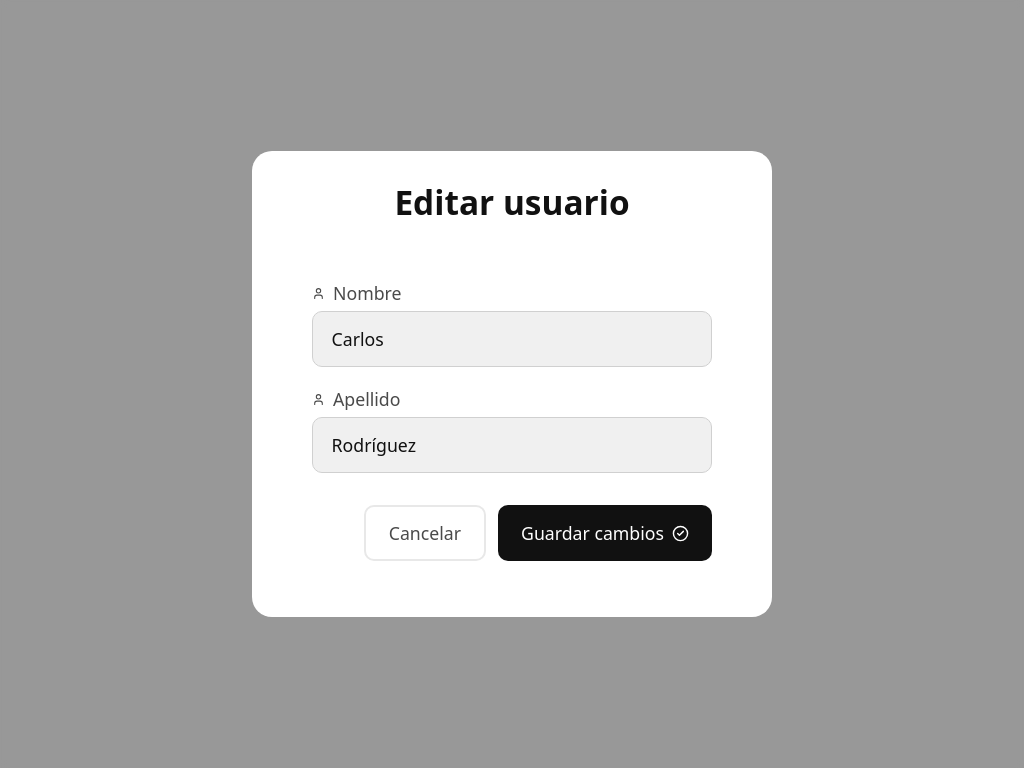
it: EditUserForm › muestra mensaje de error si falla el servicio
This screenshot has width=1024, height=768.
Click the button "Guardar cambios" at (605, 533), box [498,505,712,561]
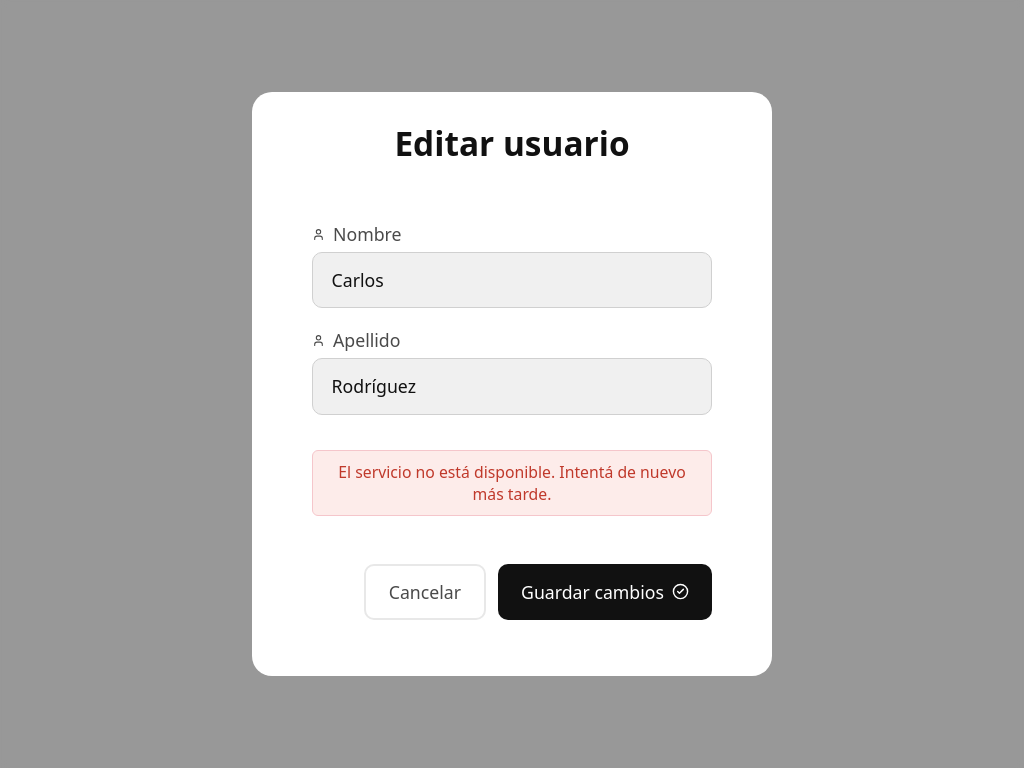
Now the message "El servicio no está disponible. Intentá de nuevo más tarde." is shown, box [312,450,712,516]
Now the message shows "no está disponible", box [338,461,686,505]
